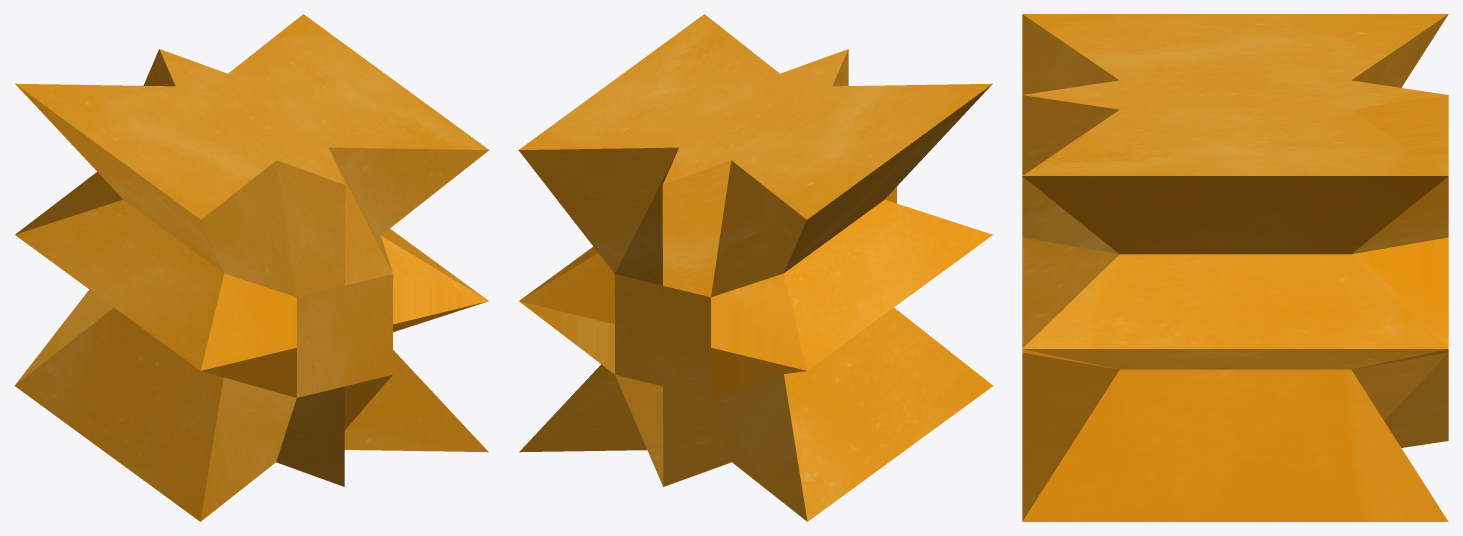
The model's file is grenaid pivot.fbx.
3 renders of one model, left to right at view 1: azimuth 30°, elevation 25°; view 2: azimuth 150°, elevation 25°; view 3: azimuth 270°, elevation 25°, orthographic. The views are drawn at different scales.
Visible parts, largest first — view 1: grenaid; view 2: grenaid; view 3: grenaid.
Boxes of the visible parts, left/top/right/bottom form: grenaid: left=14, top=14, right=489, bottom=521; grenaid: left=518, top=14, right=993, bottom=521; grenaid: left=1022, top=14, right=1448, bottom=521.
Bounding box in the file's own units: 239 × 239 × 266.
